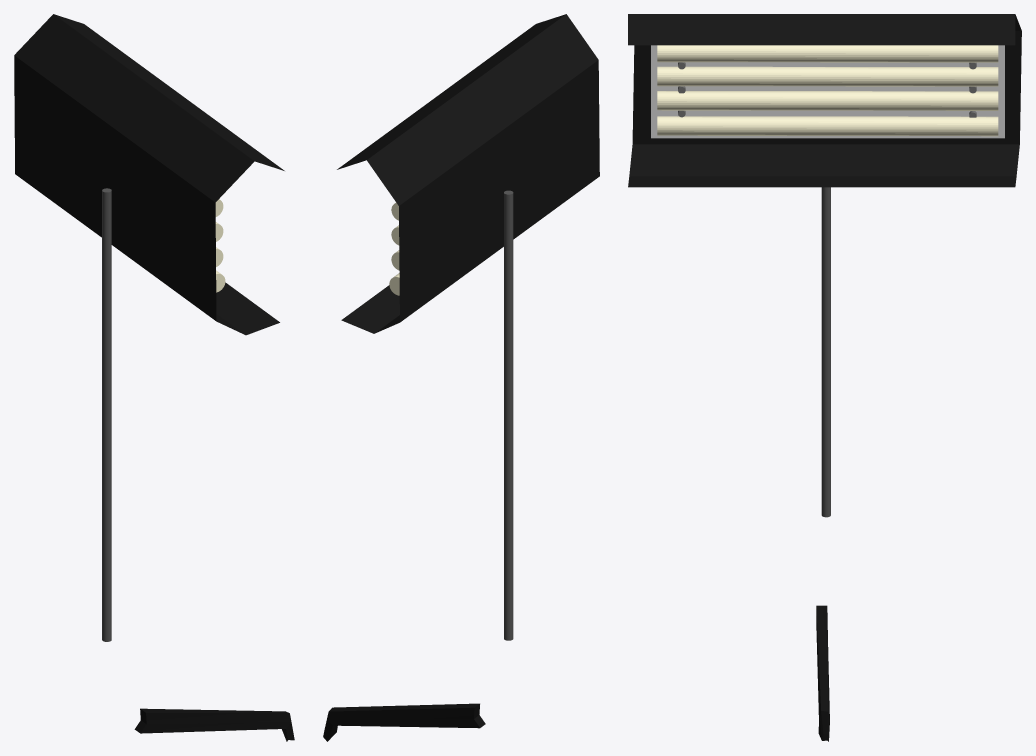
The model's file is kino flo led.glb.
The picture shows the model from 3 angles, left to right: view 1: azimuth 30°, elevation 25°; view 2: azimuth 150°, elevation 25°; view 3: azimuth 270°, elevation 25°; orthographic projection. The views are drawn at different scales.
Parts seen in each view (by area): view 1: Plane, Cylinder.010, Kubus.007; view 2: Plane, Cylinder.010, Kubus.007; view 3: Plane, Plane.001, Cylinder.001, Cylinder.003, Cylinder.002, Cylinder, Cylinder.010, Kubus.007.
Boxes of the visible parts, x1,y1,x2,y2 form: Plane: [14, 14, 284, 335]; Cylinder.010: [102, 188, 111, 641]; Kubus.007: [134, 708, 294, 741]; Plane: [337, 14, 599, 333]; Cylinder.010: [504, 190, 513, 640]; Kubus.007: [323, 703, 485, 741]; Plane: [628, 14, 1021, 187]; Plane.001: [651, 45, 1004, 138]; Cylinder.001: [657, 66, 998, 86]; Cylinder.003: [657, 116, 998, 136]; Cylinder.002: [657, 91, 998, 110]; Cylinder: [657, 45, 998, 62]; Cylinder.010: [821, 187, 830, 517]; Kubus.007: [816, 605, 829, 741].
Size of the model in its own units: 1.56 by 5.44 by 2.92.
